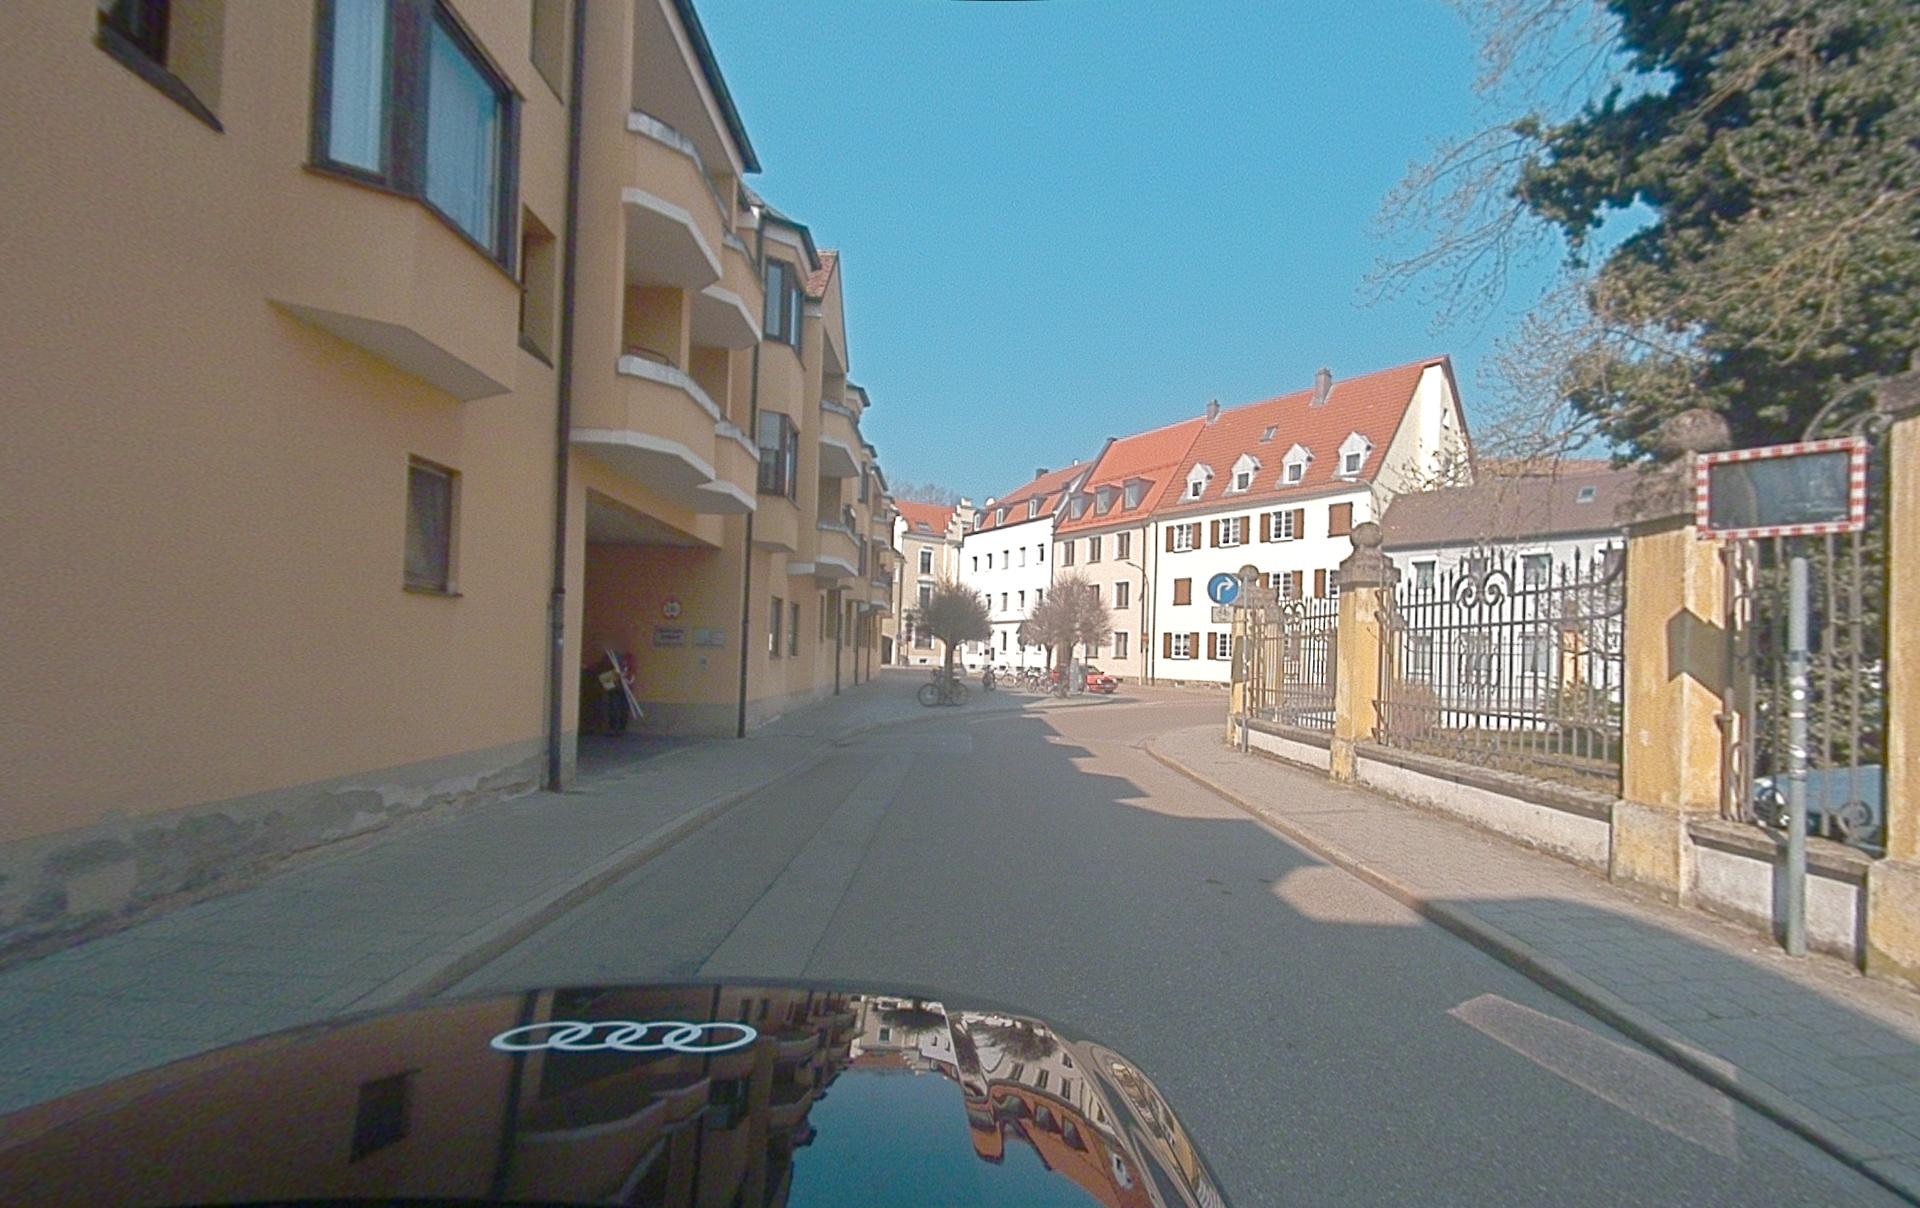car: (1052, 661, 1120, 694)
traffic sign: (1206, 572, 1242, 607)
